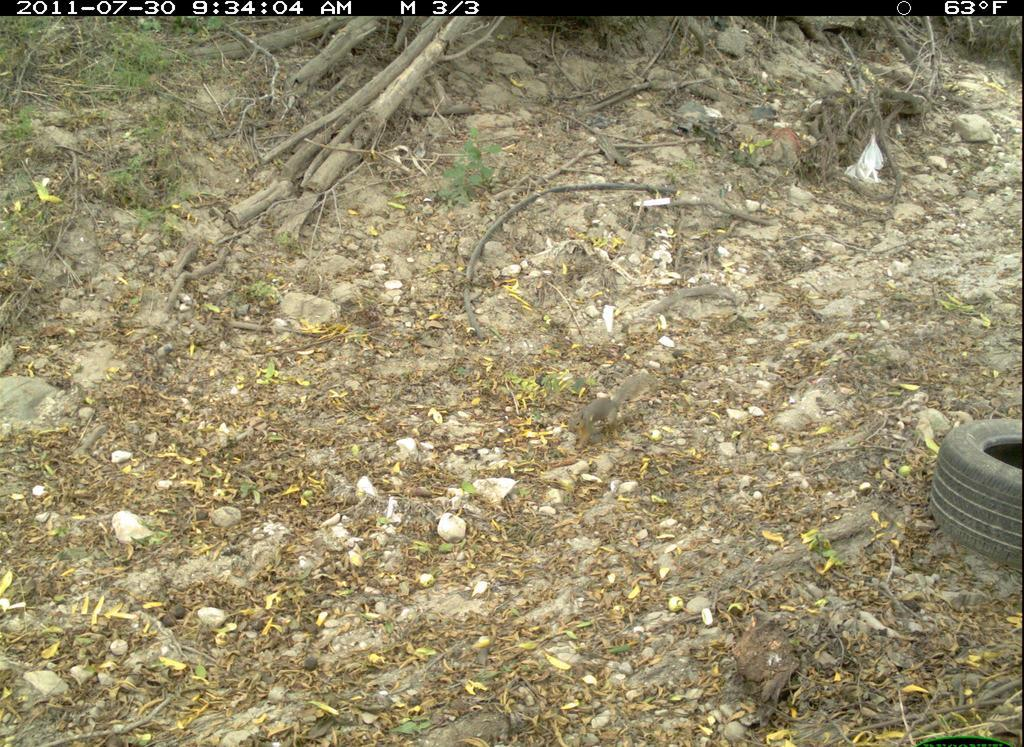squirrel: (554, 354, 669, 441)
